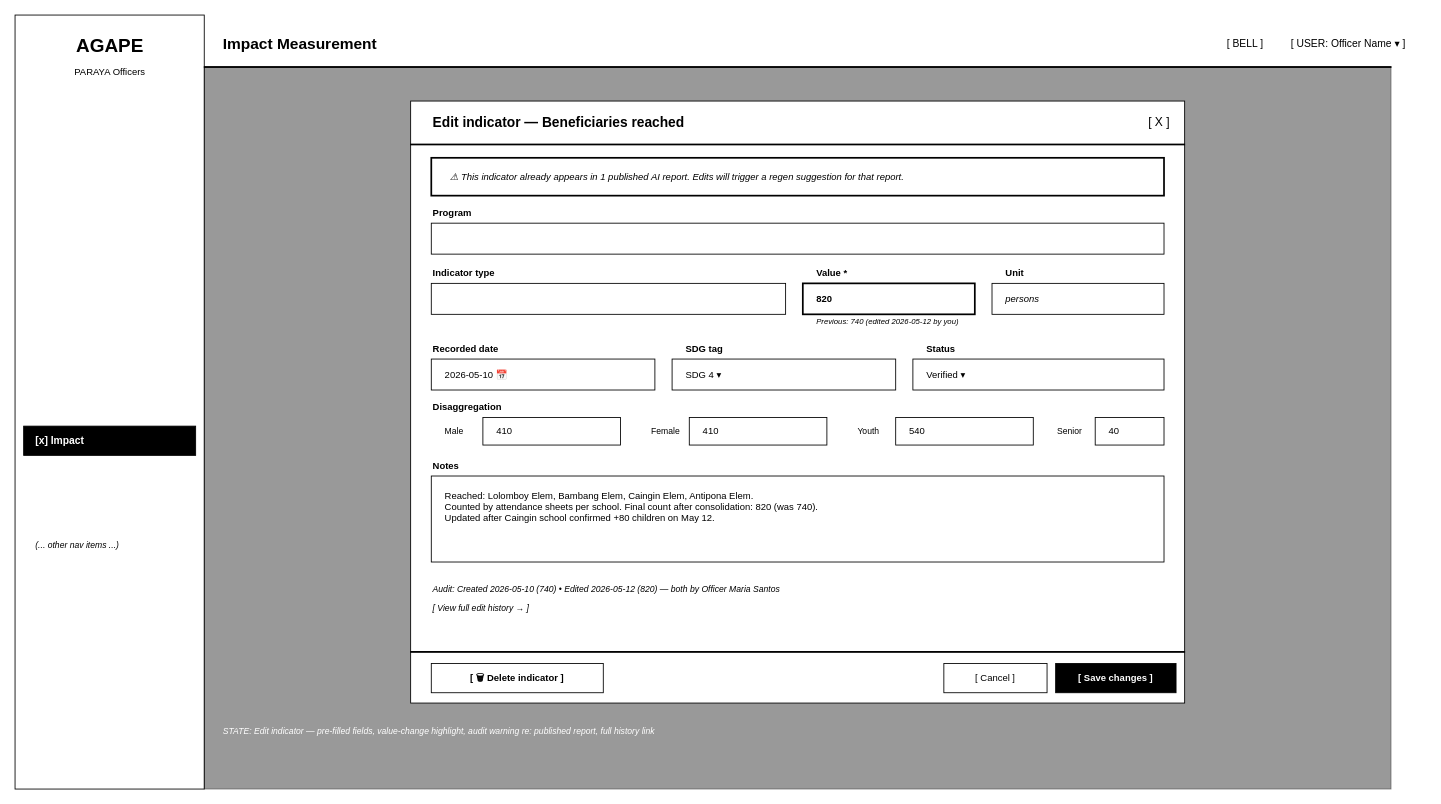
The diagram is 1441 pixels wide and 804 high, and some of its shapes have lost their labels. The shapes that lost their labels are listed below. From the top down, each one's centre as x and y in pixels, then its label:
At (797,238): "Brigada Eskwela 2026 ▾".
At (608,298): "Beneficiaries reached ▾".
